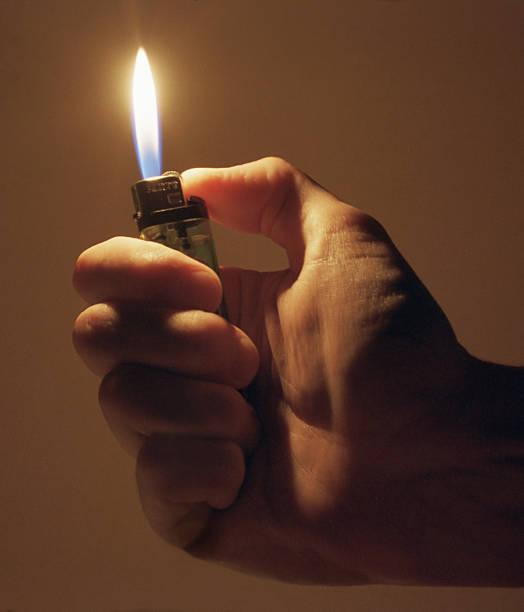Fire: (129, 45, 170, 178)
